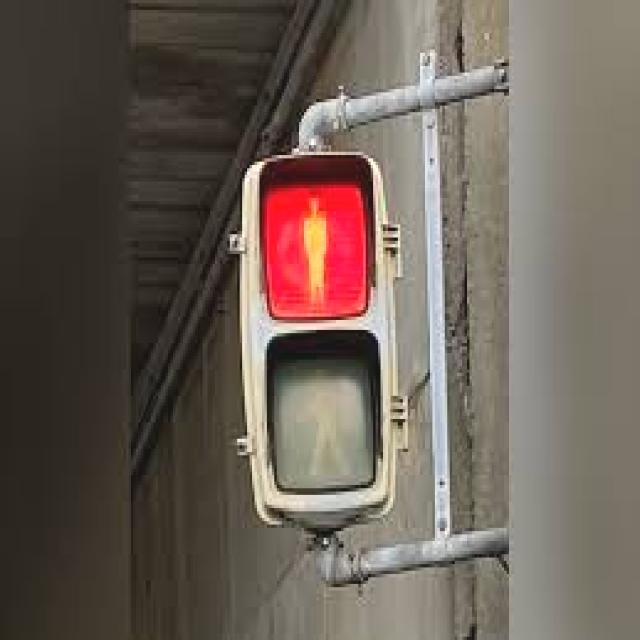trafficlight: (235, 145, 405, 521)
